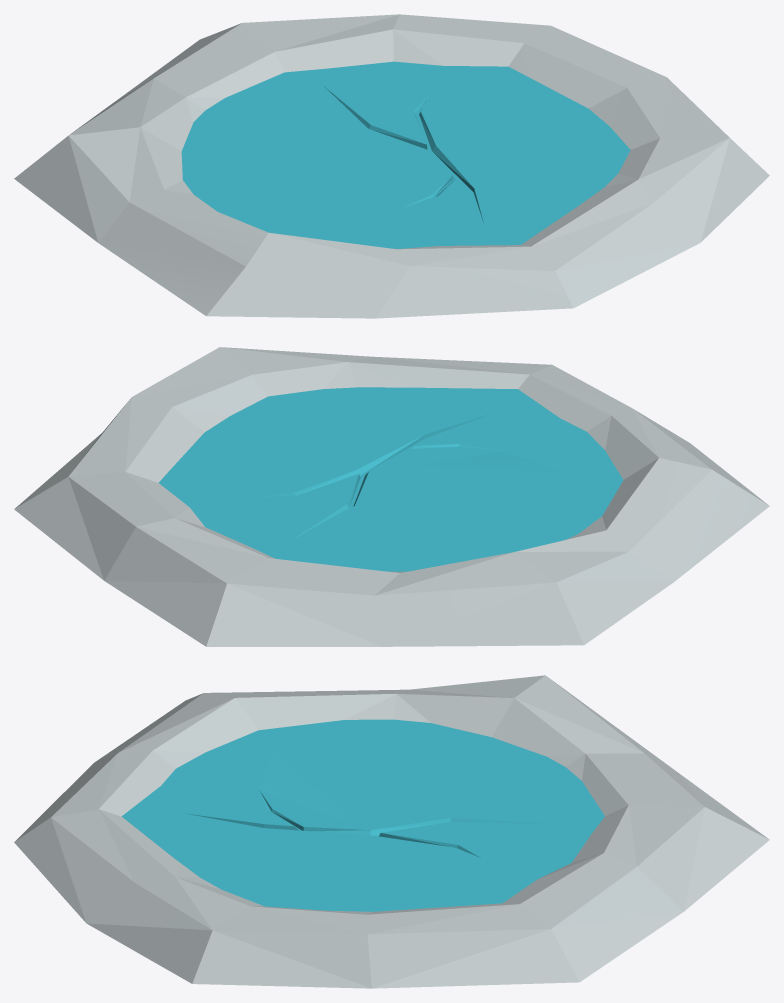
The model's file is thinIce.fbx.
3 renders of one model, top to bottom at view 1: azimuth 30°, elevation 25°; view 2: azimuth 150°, elevation 25°; view 3: azimuth 270°, elevation 25°, orthographic. The views are drawn at different scales.
Visible parts, largest first — view 1: thinIce; view 2: thinIce; view 3: thinIce.
Part boxes in pixels (x1,y1,x2,y2): thinIce: (14,14,769,318); thinIce: (14,347,769,646); thinIce: (14,675,769,988).
Bounding box in the file's own units: 2.7 × 0.2157 × 2.97.
Materials: 1 (1 with a texture image).
